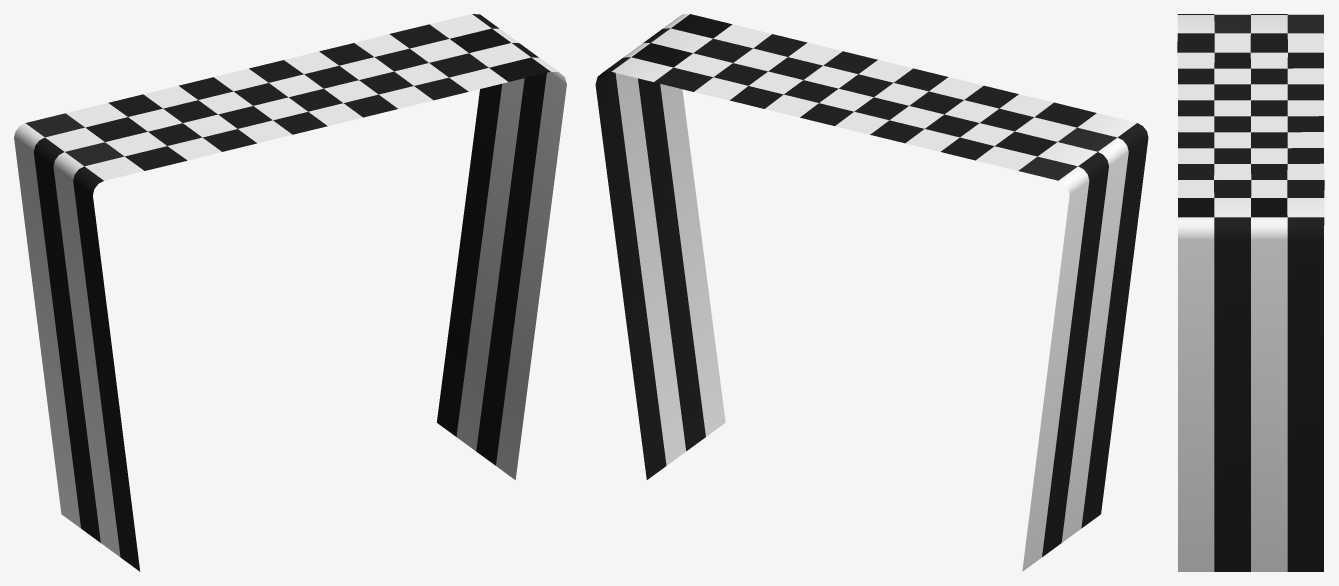
Rendered from Ending.fbx.
3 renders of one model, left to right at view 1: azimuth 30°, elevation 25°; view 2: azimuth 150°, elevation 25°; view 3: azimuth 270°, elevation 25°, orthographic. The views are drawn at different scales.
Parts seen in each view (by area): view 1: Cube.002; view 2: Cube.002; view 3: Cube.002.
Part boxes in pixels (x1,y1,x2,y2): Cube.002: (14, 14, 566, 571); Cube.002: (595, 14, 1148, 571); Cube.002: (1177, 14, 1324, 571).
Bounding box in the file's own units: 10000 × 8062 × 2902.
